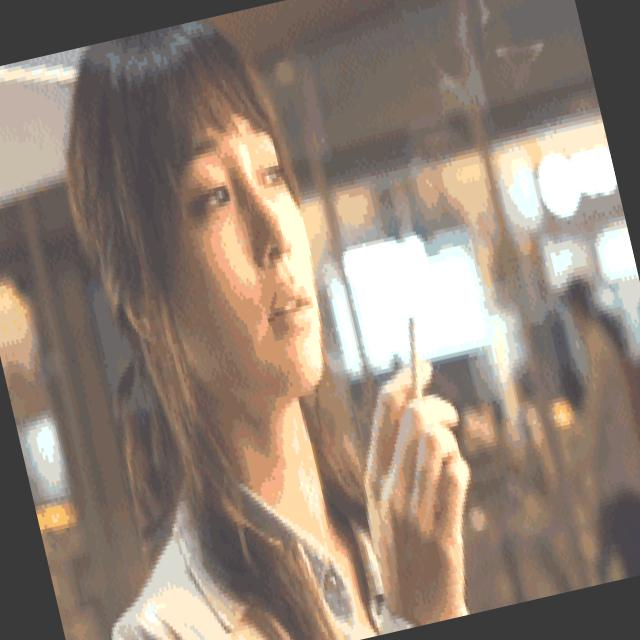smoke: (392, 312, 434, 403)
